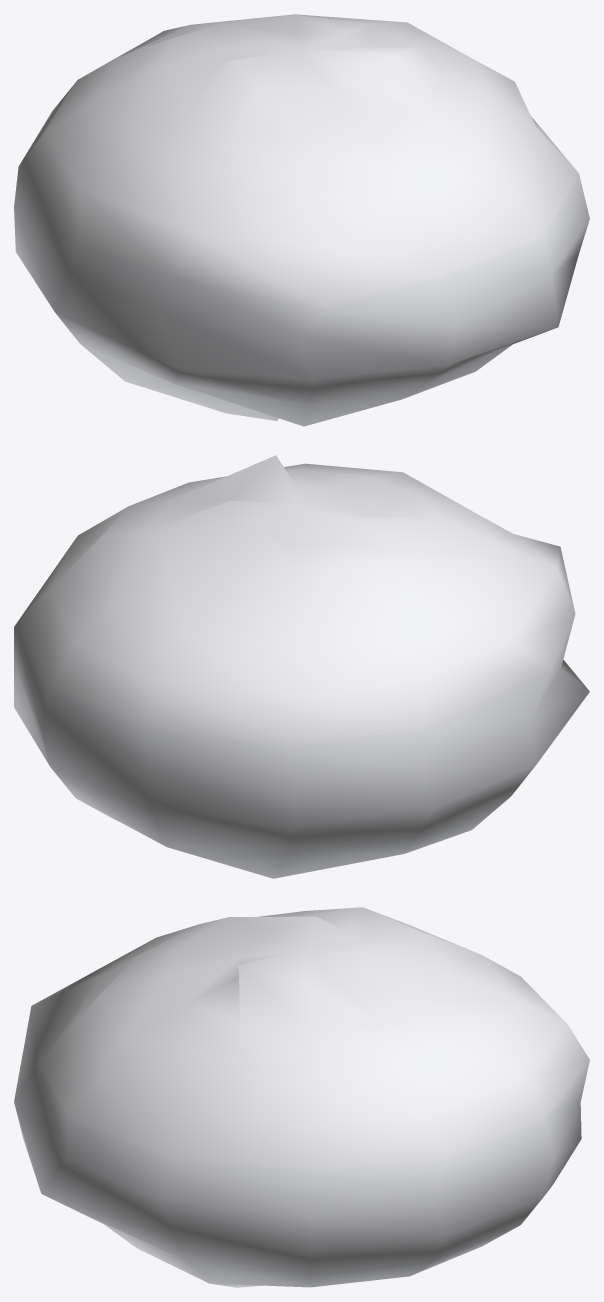
The model's file is bush-62_col.fbx.
3 views of the same model, one above another, from view 1: azimuth 30°, elevation 25°; view 2: azimuth 150°, elevation 25°; view 3: azimuth 270°, elevation 25° (orthographic). The views are drawn at different scales.
Visible parts, largest first — view 1: bush-62.col; view 2: bush-62.col; view 3: bush-62.col.
Boxes of the visible parts, x1,y1,x2,y2 form: bush-62.col: (14, 14, 589, 426); bush-62.col: (14, 455, 589, 878); bush-62.col: (14, 907, 589, 1287).
Bounding box in the file's own units: 0.1718 × 0.1143 × 0.183.
Materials: 1 (1 with a texture image).
